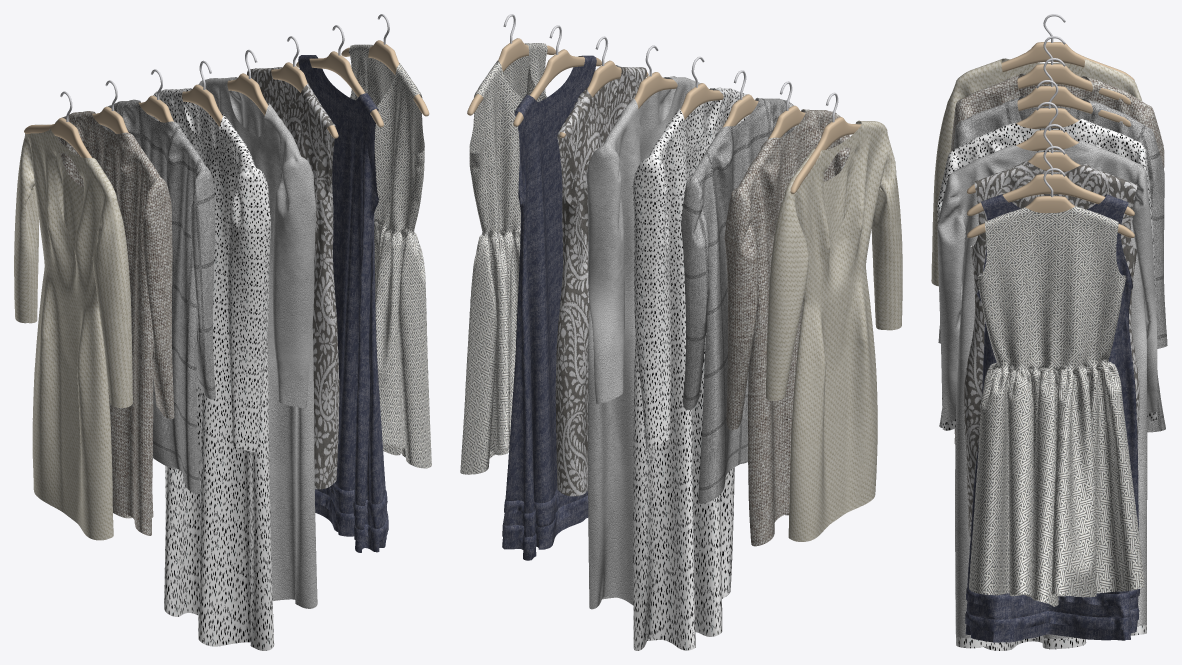
Rendered from rod-hang-long.full.glb.
3 views of the same model, side by side, from view 1: azimuth 30°, elevation 25°; view 2: azimuth 150°, elevation 25°; view 3: azimuth 270°, elevation 25° (orthographic). The views are drawn at different scales.
Parts seen in each view (by area): view 1: set_14_007.001, set_14_001.001, set_14_005.001, set_14_010.001, set_14_003.001, set_14_002.001, set_14_006.001, set_14_004.001, Hanger_set_14_023.001, Hanger_set_14_105.001, Hanger_set_14_067.001, Hanger_set_14_048.001 (+4 smaller); view 2: set_14_001.001, set_14_007.001, set_14_005.001, set_14_010.001, set_14_002.001, set_14_003.001, set_14_006.001, set_14_004.001, Hanger_set_14_105.001, Hanger_set_14_023.001, Hanger_set_14_067.001, Hanger_set_14_107.001 (+4 smaller); view 3: set_14_003.001, set_14_005.001, set_14_010.001, set_14_004.001, set_14_006.001, set_14_007.001, set_14_001.001, set_14_002.001, Hanger_set_14_023.001, Hanger_set_14_104.001, Hanger_set_14_022.001, Hanger_set_14_105.001 (+4 smaller).
Boxes of the visible parts, left/top/right/bottom form: set_14_007.001: left=148, top=88, right=274, bottom=650; set_14_001.001: left=14, top=124, right=132, bottom=540; set_14_005.001: left=198, top=77, right=317, bottom=608; set_14_010.001: left=298, top=55, right=388, bottom=552; set_14_003.001: left=349, top=44, right=431, bottom=468; set_14_002.001: left=55, top=111, right=174, bottom=535; set_14_006.001: left=100, top=99, right=215, bottom=494; set_14_004.001: left=247, top=67, right=339, bottom=489; Hanger_set_14_023.001: left=296, top=25, right=383, bottom=127; Hanger_set_14_105.001: left=24, top=91, right=92, bottom=157; Hanger_set_14_067.001: left=341, top=14, right=429, bottom=116; Hanger_set_14_048.001: left=227, top=49, right=268, bottom=115; set_14_001.001: left=766, top=120, right=902, bottom=541; set_14_007.001: left=632, top=87, right=749, bottom=650; set_14_005.001: left=586, top=76, right=700, bottom=609; set_14_010.001: left=502, top=55, right=596, bottom=560; set_14_002.001: left=724, top=109, right=850, bottom=546; set_14_003.001: left=460, top=43, right=547, bottom=474; set_14_006.001: left=681, top=97, right=797, bottom=503; set_14_004.001: left=555, top=65, right=646, bottom=496; Hanger_set_14_105.001: left=790, top=92, right=861, bottom=193; Hanger_set_14_023.001: left=513, top=25, right=601, bottom=126; Hanger_set_14_067.001: left=467, top=14, right=555, bottom=115; Hanger_set_14_107.001: left=680, top=56, right=723, bottom=119; set_14_003.001: left=969, top=206, right=1144, bottom=606; set_14_005.001: left=937, top=141, right=1157, bottom=638; set_14_010.001: left=965, top=194, right=1139, bottom=642; set_14_004.001: left=964, top=161, right=1139, bottom=536; set_14_006.001: left=938, top=96, right=1167, bottom=432; set_14_007.001: left=937, top=119, right=1157, bottom=650; set_14_001.001: left=931, top=58, right=1142, bottom=286; set_14_002.001: left=950, top=73, right=1164, bottom=444; Hanger_set_14_023.001: left=967, top=146, right=1134, bottom=215; Hanger_set_14_104.001: left=1017, top=36, right=1130, bottom=104; Hanger_set_14_022.001: left=1017, top=58, right=1131, bottom=126; Hanger_set_14_105.001: left=1001, top=14, right=1134, bottom=80.
Size of the model in its own units: 0.933 by 1.45 by 0.5439.
24 materials, 8 textured.
